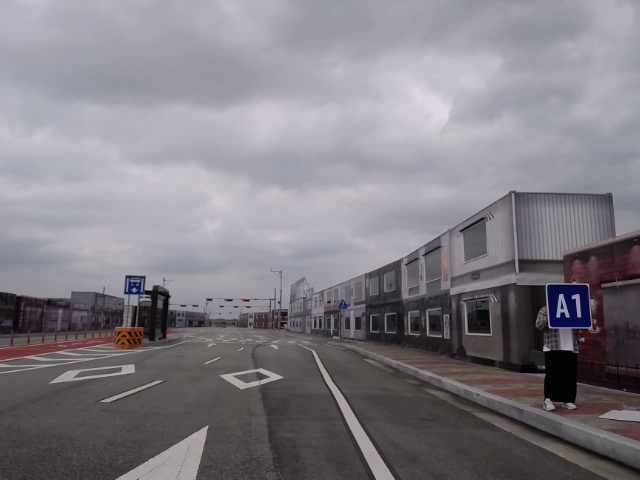delivery_a1: (545, 283, 593, 329)
